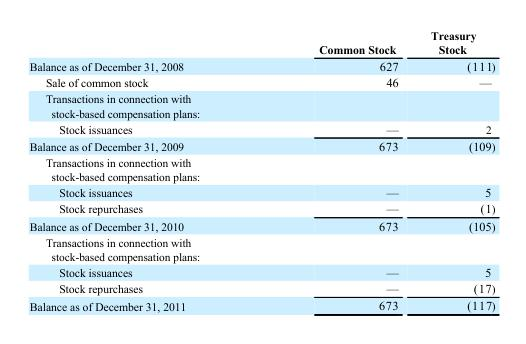table: (28, 28, 494, 312)
table column: (28, 28, 251, 312), (251, 28, 413, 312), (413, 28, 494, 312)
table column header: (28, 28, 494, 57)
table projected row header: (28, 90, 494, 120), (28, 233, 494, 263), (28, 154, 494, 183)
table row: (28, 90, 494, 120), (28, 233, 494, 263), (28, 28, 494, 57), (28, 154, 494, 183), (28, 57, 494, 74), (28, 120, 494, 137), (28, 137, 494, 154), (28, 183, 494, 200), (28, 216, 494, 233), (28, 279, 494, 296), (28, 74, 494, 90), (28, 200, 494, 216), (28, 263, 494, 279), (28, 296, 494, 312)
